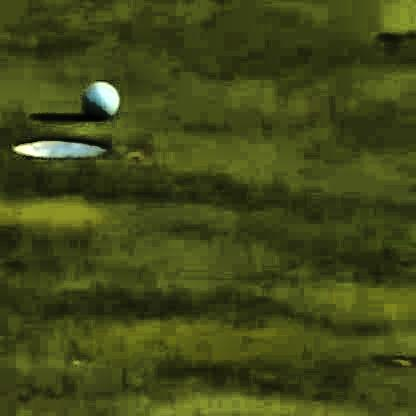golfball: (81, 77, 117, 116)
